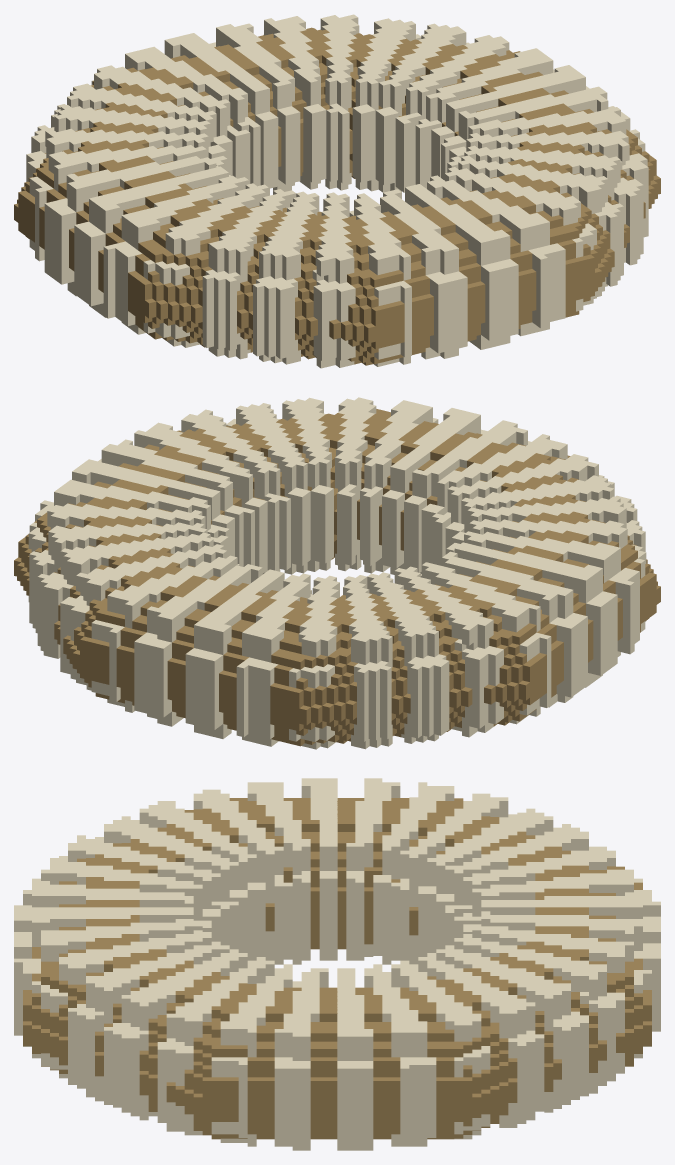
Rendered from cowl_wool.glb.
The picture shows the model from 3 angles, top to bottom: view 1: azimuth 30°, elevation 25°; view 2: azimuth 150°, elevation 25°; view 3: azimuth 270°, elevation 25°; orthographic projection. The views are drawn at different scales.
Parts seen in each view (by area): view 1: cowl_wool:compound; view 2: cowl_wool:compound; view 3: cowl_wool:compound.
Boxes of the visible parts, <box> form: cowl_wool:compound: <box>14,14,660,368</box>; cowl_wool:compound: <box>14,397,660,749</box>; cowl_wool:compound: <box>14,778,660,1150</box>.
Size of the model in its own units: 0.288 by 0.06 by 0.288.
